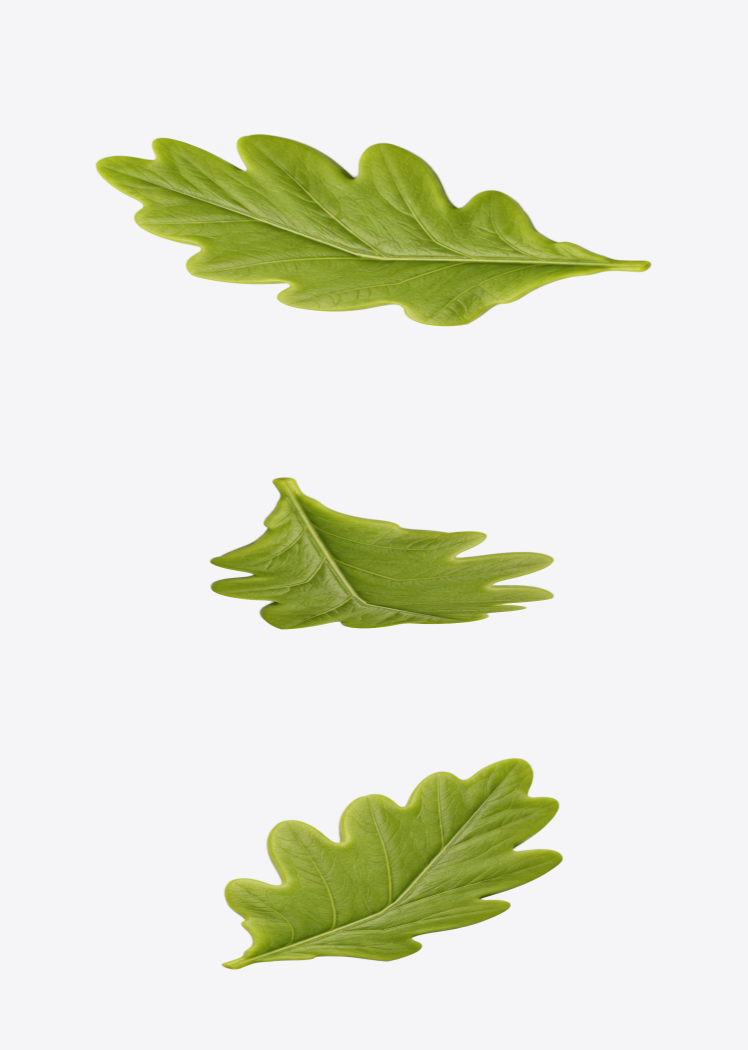
File: hoja02.glb
The picture shows the model from 3 angles, top to bottom: view 1: azimuth 30°, elevation 25°; view 2: azimuth 150°, elevation 25°; view 3: azimuth 270°, elevation 25°; orthographic projection. The views are drawn at different scales.
Visible parts, largest first — view 1: Object_2; view 2: Object_2; view 3: Object_2.
Part boxes in pixels (bbox=[...]): Object_2: bbox=[95, 133, 651, 326]; Object_2: bbox=[209, 477, 554, 629]; Object_2: bbox=[221, 758, 563, 969].
Size of the model in its own units: 0.4952 by 0.0638 by 0.4936.
1 material, 1 textured.
